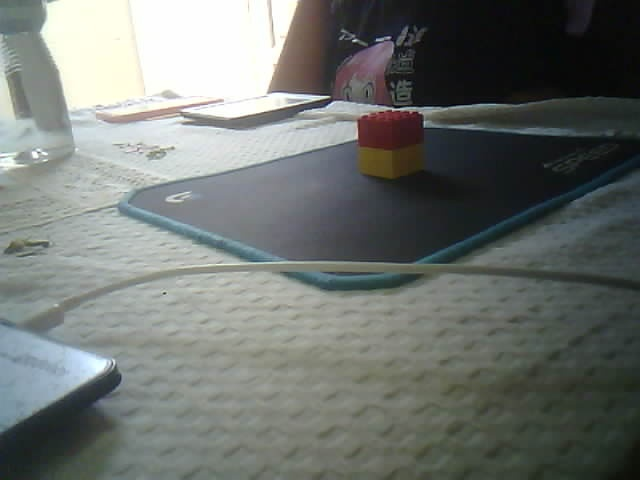lego: (356, 109, 425, 180)
